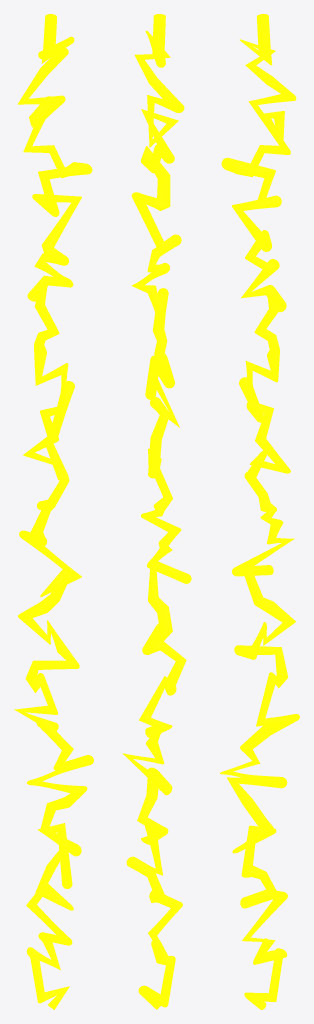
The model's file is Zeus_vertical (1).fbx.
The picture shows the model from 3 angles, left to right: view 1: azimuth 90°, elevation 25°; view 2: azimuth 210°, elevation 25°; view 3: azimuth 270°, elevation 25°; orthographic projection.
Visible parts, largest first — view 1: Cube; view 2: Cube; view 3: Cube.
Part boxes in pixels (bbox=[...]): Cube: bbox=[14, 14, 93, 1009]; Cube: bbox=[122, 14, 191, 1009]; Cube: bbox=[220, 14, 299, 1009].
Size of the model in its own units: 281 by 5003 by 365.
